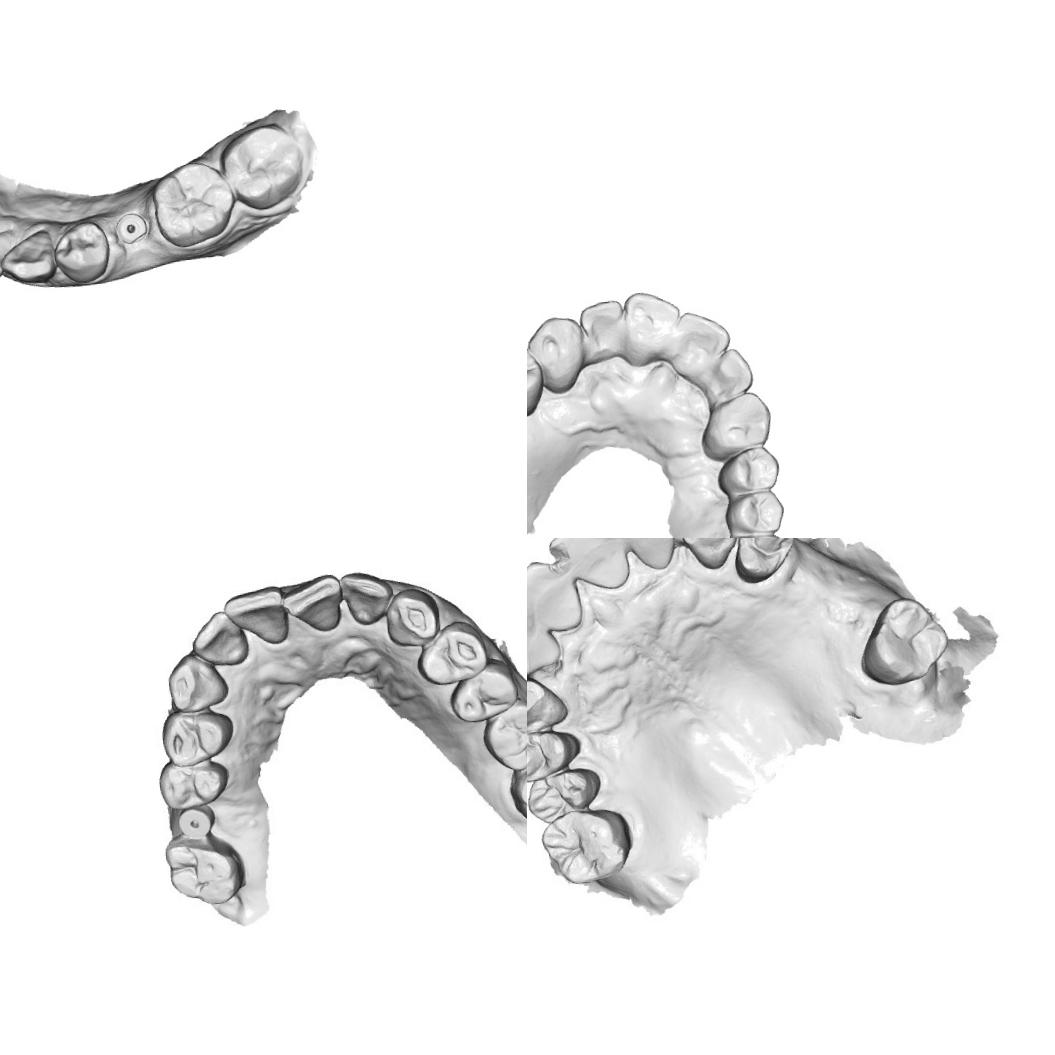canine: (696, 389, 775, 463), (527, 313, 588, 396), (160, 648, 230, 713), (381, 583, 443, 646), (0, 223, 59, 287), (527, 674, 567, 737), (675, 538, 743, 573)
implant: (172, 797, 216, 843), (111, 209, 152, 250)
incisor: (543, 538, 631, 595), (527, 555, 584, 637), (187, 608, 253, 674), (226, 589, 290, 657), (283, 575, 346, 638), (620, 286, 682, 342), (577, 298, 627, 360), (674, 306, 732, 358), (338, 569, 392, 624), (611, 538, 678, 576), (527, 609, 563, 677), (710, 344, 756, 395), (0, 226, 19, 283)
molar: (854, 592, 956, 688), (536, 801, 636, 890), (147, 156, 241, 250), (215, 120, 307, 213), (162, 832, 248, 912), (476, 701, 527, 774), (504, 737, 527, 826)
premolar: (444, 656, 520, 724), (527, 762, 605, 825), (48, 216, 116, 288), (416, 618, 484, 690), (155, 708, 237, 767), (156, 752, 236, 810), (727, 538, 799, 587), (714, 443, 781, 494), (527, 722, 582, 783), (722, 488, 786, 536), (527, 343, 546, 419)
